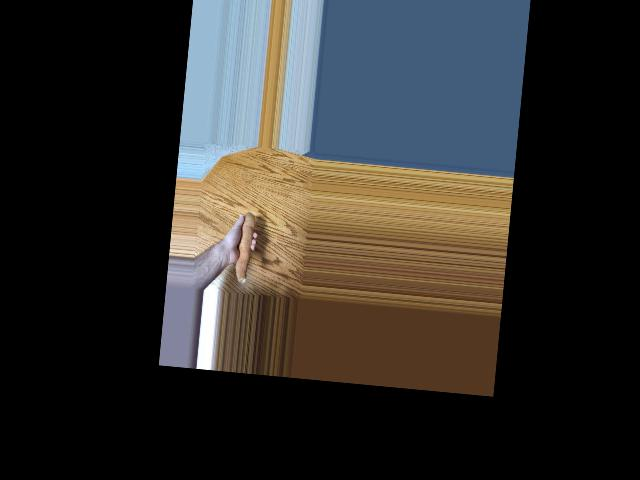sweet_potato: (229, 206, 259, 284)
